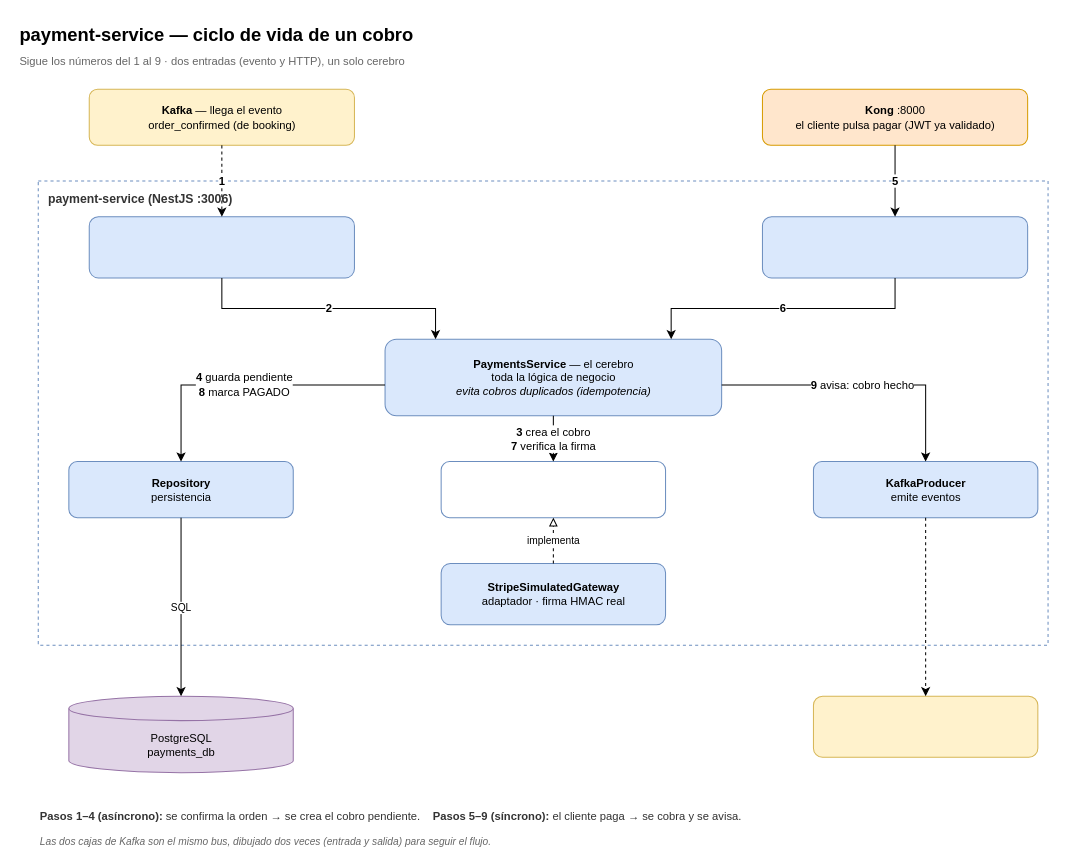
The diagram is 1075 pixels wide and 866 high, and some of its shapes have lost their labels. The shapes that lost their labels are listed below. From the top down, each one's centre as x and y in pixels, then its label:
the point at 221,247: PaymentsConsumer puerta asíncrona (Kafka)
the point at 894,247: PaymentsController puerta síncrona (REST)
the point at 553,489: «interfaz» PaymentGateway
the point at 925,726: Kafka — sale el evento payment_processed → notification
